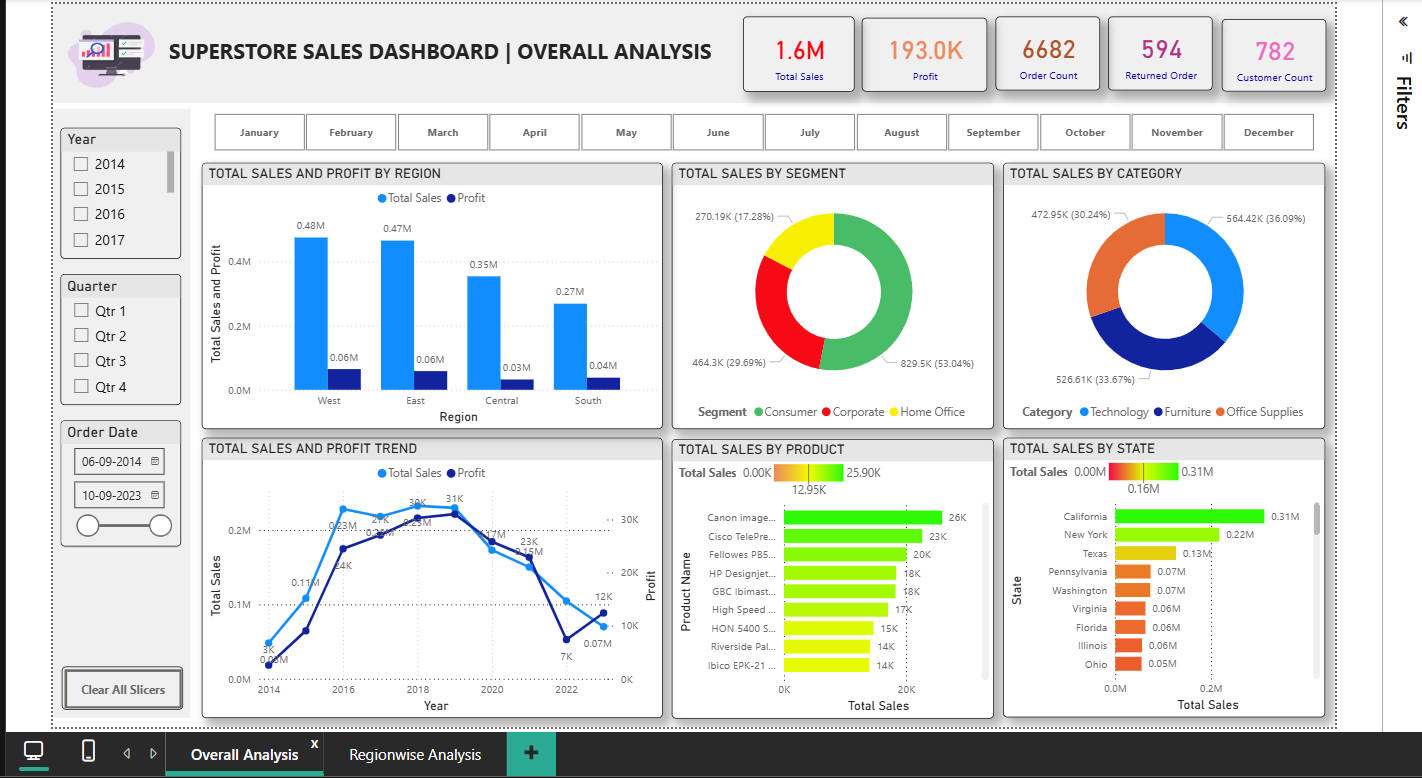

What the dashboard file says about the page in this screenshot:
{"tool":"powerbi","page":{"name":"Overall Analysis","canvas":[1470,830],"ordinal":0},"visuals":[{"type":"shape","box":[0,0,1470.3,113.5],"z":0},{"type":"textbox","box":[0,120.2,157.6,698.4],"z":1000},{"type":"card","fields":{"Values":["Sum(Orders.Profit)"]},"box":[928,15.5,143.7,84.6],"z":2000},{"type":"card","fields":{"Values":["Sum(Orders.Sales)"]},"box":[791.1,14.2,127.6,86.7],"z":3000},{"type":"card","fields":{"Values":["CountNonNull(Orders.Order ID)"]},"box":[1081,15,120,85],"z":4000},{"type":"card","fields":{"Values":["Count(Orders.Customer ID)"]},"box":[1340.1,16.9,119.8,83.1],"z":5000},{"type":"donutChart","title":"TOTAL SALES BY SEGMENT","fields":{"Y":["Sum(Orders.Sales)"],"Category":["Orders.Segment"]},"box":[709.9,181.6,369.9,305.8],"z":6000},{"type":"donutChart","title":"TOTAL SALES BY CATEGORY","fields":{"Y":["Sum(Orders.Sales)"],"Category":["Orders.Category"]},"box":[1090,181.6,369.9,305.8],"z":7000},{"type":"lineChart","title":"TOTAL SALES AND PROFIT TREND","fields":{"Category":["Orders.Order Date.Variation.Date Hierarchy.Year1","Orders.Order Date.Variation.Date Hierarchy.Quarter","Orders.Order Date.Variation.Date Hierarchy.Month","Orders.Order Date.Variation.Date Hierarchy.Day"],"Y":["Sum(Orders.Sales)"],"Y2":["Sum(Orders.Profit)"]},"box":[170.9,498.1,528.8,321.8],"z":8000},{"type":"clusteredBarChart","title":"TOTAL SALES BY PRODUCT","fields":{"Category":["Orders.Product Name"],"Y":["Sum(Orders.Sales)"]},"box":[710.4,499.4,369.9,320.5],"z":9000},{"type":"clusteredColumnChart","title":"TOTAL SALES AND PROFIT BY REGION","fields":{"Category":["Orders.Region"],"Y":["Sum(Orders.Sales)","Sum(Orders.Profit)"]},"box":[170.9,181.6,528.8,305.8],"z":10000},{"type":"slicer","title":"Year","fields":{"Values":["Orders.Order Date.Variation.Date Hierarchy.Year"]},"box":[9.2,142.5,138.6,150.3],"z":11000},{"type":"slicer","title":"Quarter","fields":{"Values":["Orders.Order Date.Variation.Date Hierarchy.Quarter"]},"box":[9.2,309.8,138.6,150.3],"z":12000},{"type":"slicer","title":"Order Date ","fields":{"Values":["Orders.Order Date"]},"box":[9.2,477.2,138.6,145.1],"z":13000},{"type":"actionButton","box":[9.3,759.8,138.9,49.4],"z":14000},{"type":"slicer","fields":{"Values":["Month Table.Month Name"]},"box":[158.9,118.9,1311.4,56.1],"z":15000},{"type":"textbox","box":[117.5,33.4,653,48.1],"z":16000},{"type":"card","fields":{"Values":["CountNonNull(Returns.Order ID)"]},"box":[1210.3,15,120,85],"z":17000},{"type":"clusteredBarChart","title":"TOTAL SALES BY STATE","fields":{"Y":["Sum(Orders.Sales)"],"Category":["Orders.State"]},"box":[1089.7,498.1,369.9,320.5],"z":18000},{"type":"image","box":[0,0,134.9,113.5],"z":19000}]}

Visuals, with their boxes on the page's 1470x830 design canvas (x1, y1, x2, y2). These are canvas units, not pixel positions in the 1422x778 screenshot, which may show the page scaled, cropped or inside an application window:
shape: 0:0:1470:114
textbox: 0:120:158:819
card - Sum(Orders.Profit): 928:16:1072:100
card - Sum(Orders.Sales): 791:14:919:101
card - CountNonNull(Orders.Order ID): 1081:15:1201:100
card - Count(Orders.Customer ID): 1340:17:1460:100
"TOTAL SALES BY SEGMENT" donutChart: 710:182:1080:487
"TOTAL SALES BY CATEGORY" donutChart: 1090:182:1460:487
"TOTAL SALES AND PROFIT TREND" lineChart: 171:498:700:820
"TOTAL SALES BY PRODUCT" clusteredBarChart: 710:499:1080:820
"TOTAL SALES AND PROFIT BY REGION" clusteredColumnChart: 171:182:700:487
"Year" slicer: 9:142:148:293
"Quarter" slicer: 9:310:148:460
"Order Date " slicer: 9:477:148:622
actionButton: 9:760:148:809
slicer - Month Table.Month Name: 159:119:1470:175
textbox: 118:33:770:82
card - CountNonNull(Returns.Order ID): 1210:15:1330:100
"TOTAL SALES BY STATE" clusteredBarChart: 1090:498:1460:819
image: 0:0:135:114
